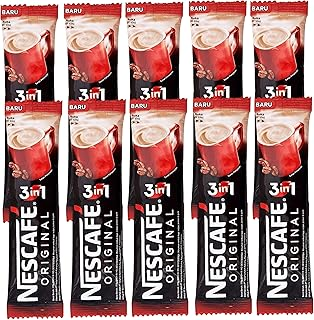Coffee: (1, 3, 314, 316)
